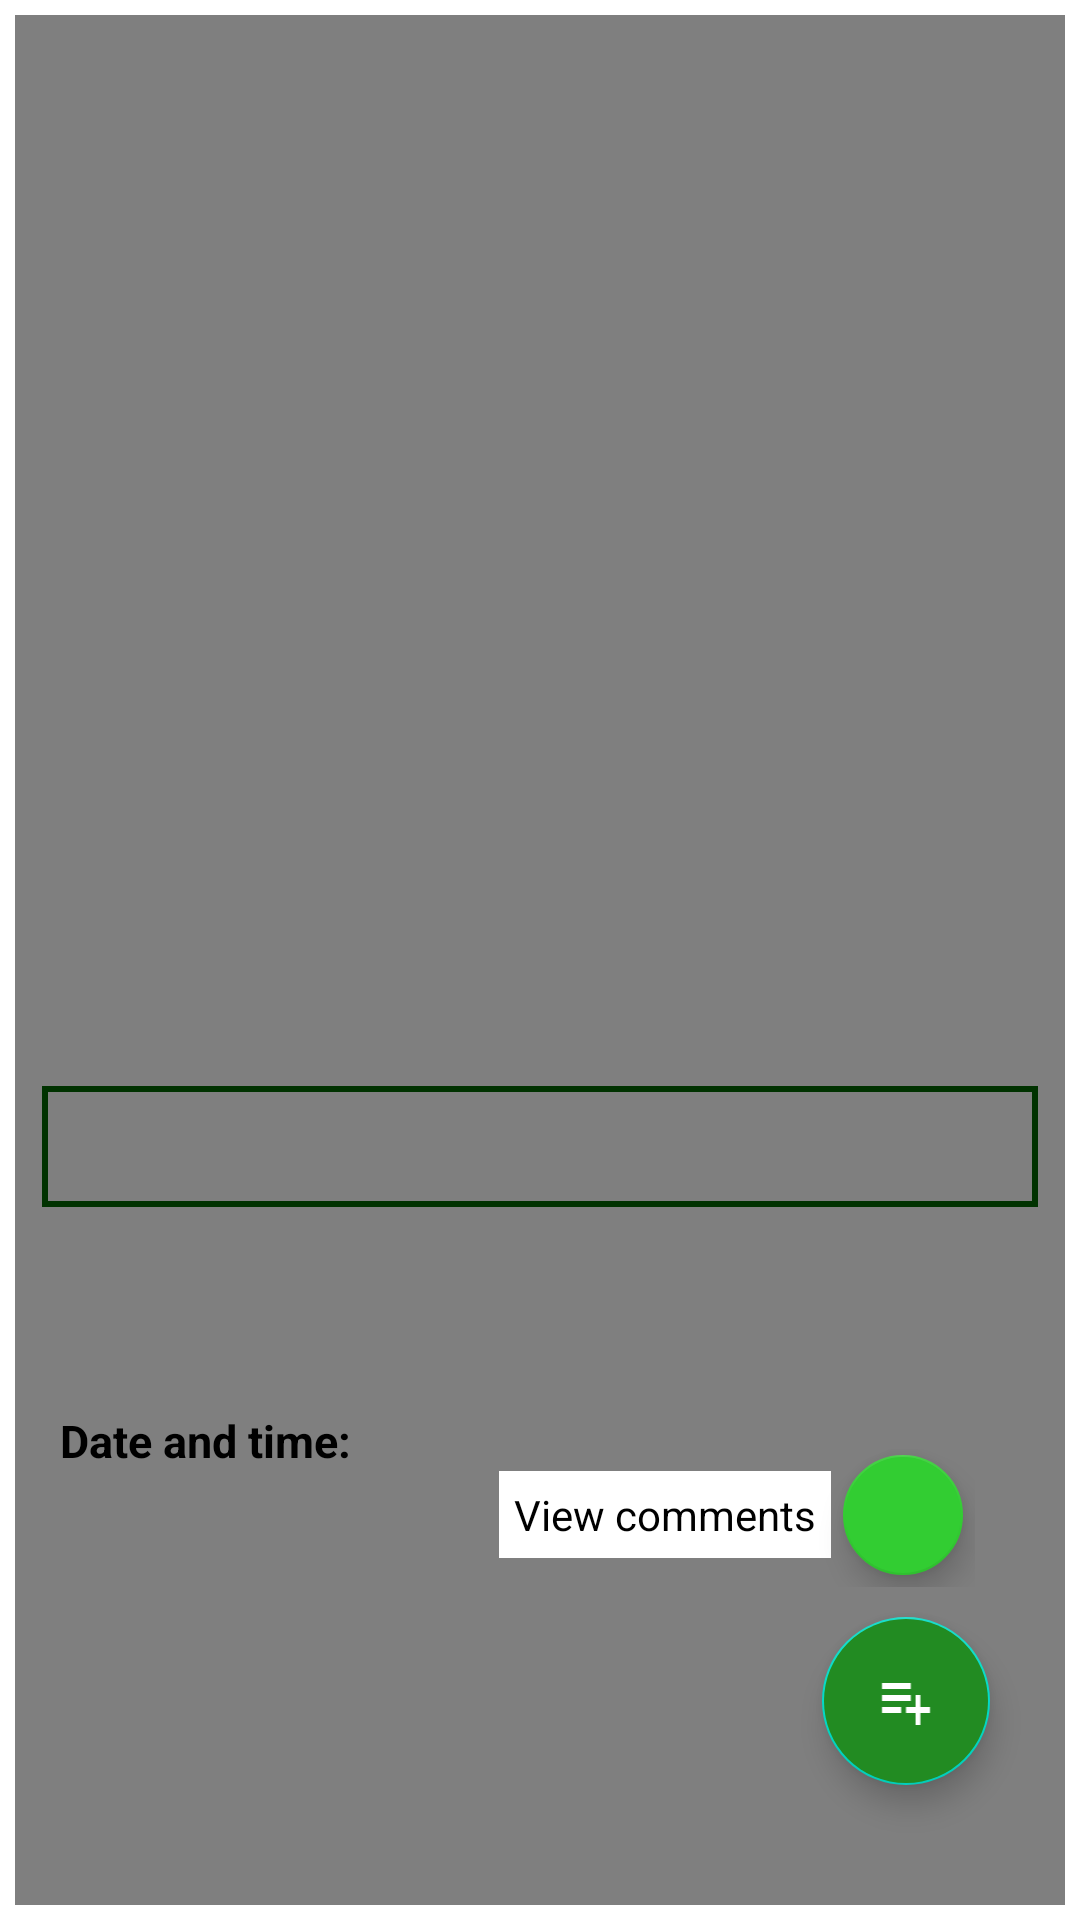

Where to tap for icons on this 1080w x 1920h app screen, as (x,y):
add: (906,1701)
